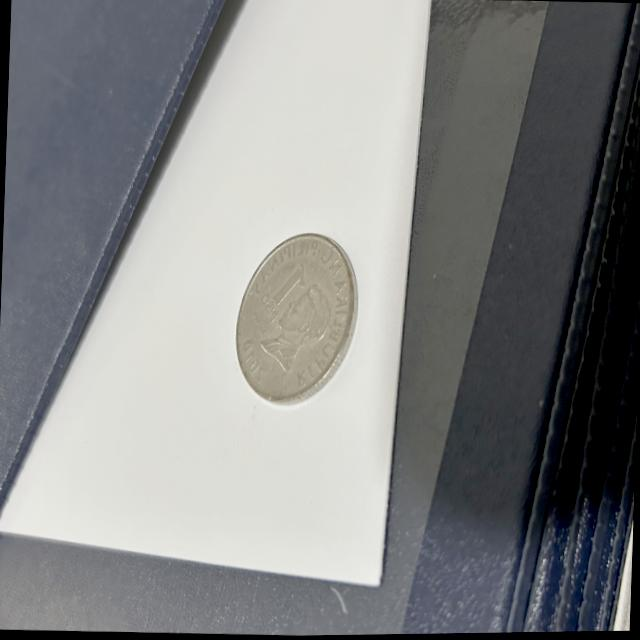1_Old_Front: (260, 263, 308, 319)
